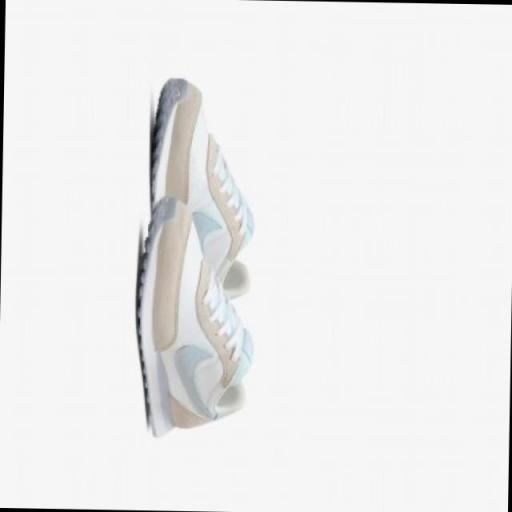Nike: (170, 344, 219, 422)
